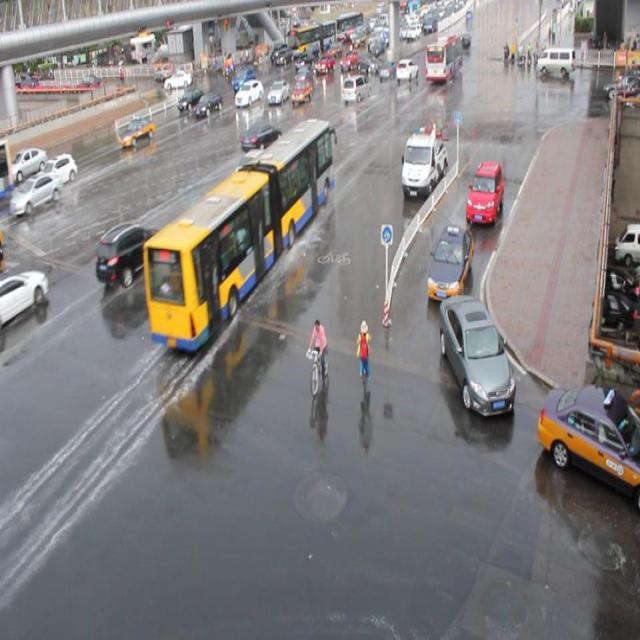bus: (400, 127, 447, 195)
car: (534, 385, 640, 508), (438, 294, 515, 414), (95, 223, 163, 284), (425, 223, 473, 302), (1, 268, 49, 332), (464, 160, 503, 222), (14, 172, 62, 216), (233, 147, 275, 191), (1, 146, 49, 182), (37, 152, 78, 188), (240, 120, 283, 152), (118, 118, 155, 147), (234, 78, 263, 107), (342, 75, 370, 104), (194, 90, 222, 116), (177, 86, 204, 112), (290, 78, 312, 106), (232, 67, 256, 91), (267, 80, 290, 104)
van: (143, 116, 333, 352)
